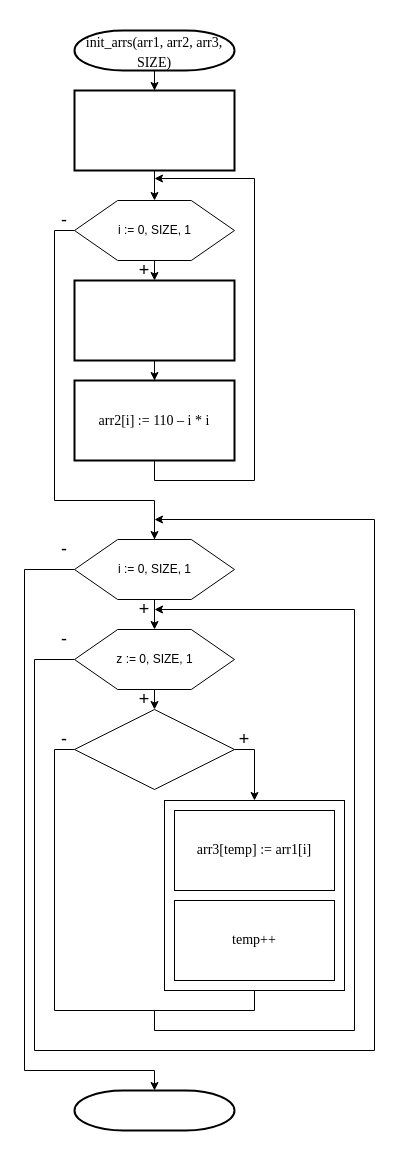
This 400x1151 diagram has some shape labels left out. Here are the shapes that lost their labels. From the top down, the centre of each, then its label:
At [154,130]: "temp := 0".
At [154,320]: "arr 1[ i ] := 100 + i".
At [154,749]: "arr1[i] == arr2[z]".
At [154,1110]: "кінець".
